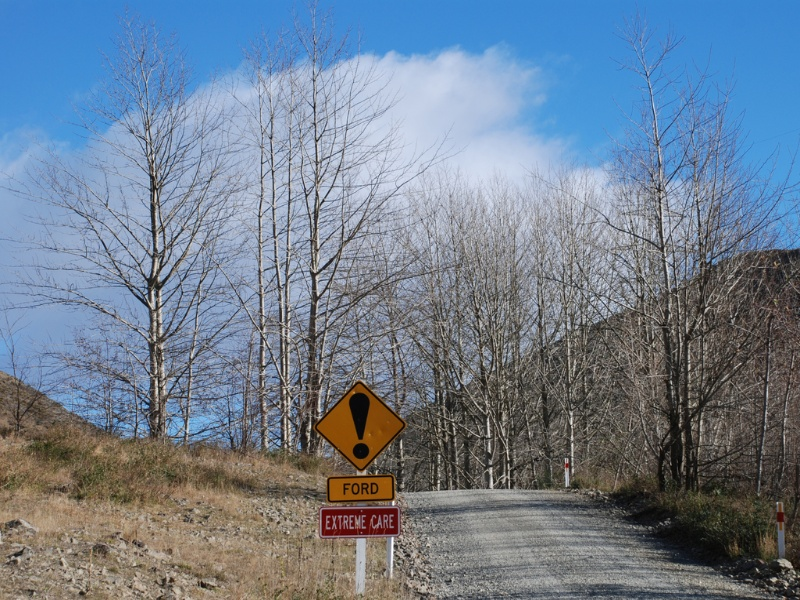warning: (309, 376, 409, 475)
